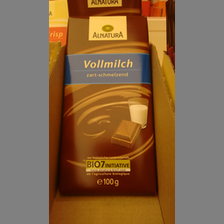chocolate: (59, 16, 159, 197)
